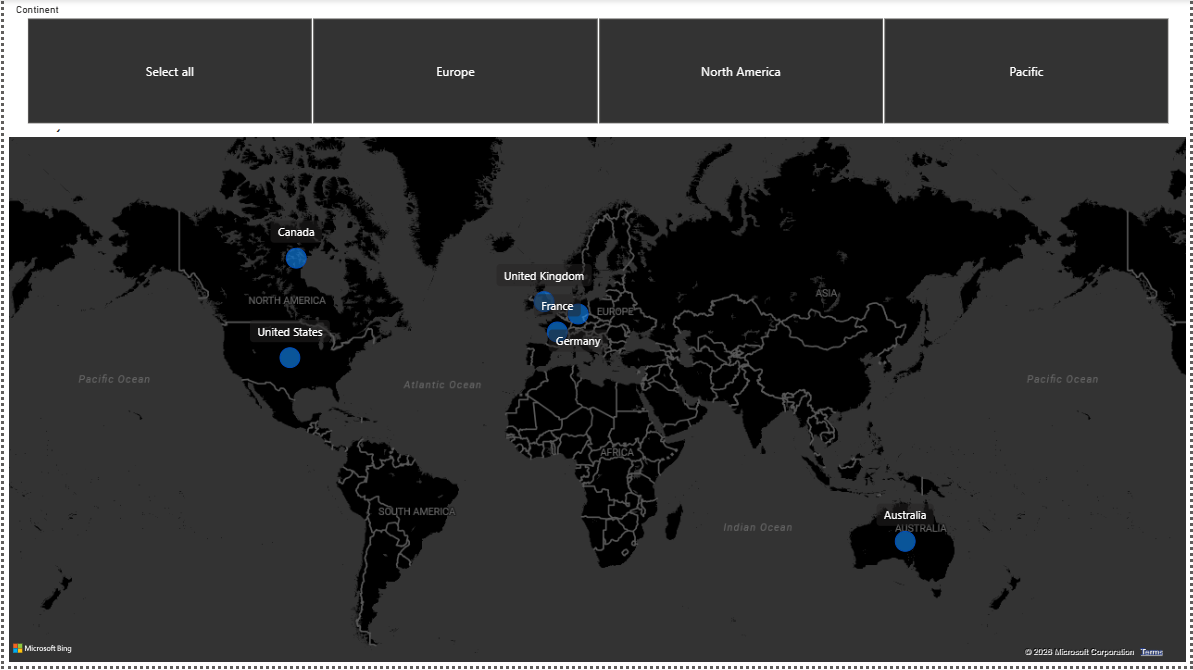

The page's visual inventory and layout, read from the dashboard file:
{"tool":"powerbi","page":{"name":"Maps","canvas":[1280,720],"ordinal":5},"visuals":[{"type":"map","fields":{"Category":["Territory Lookup.Continent Hierarchy.Continent","Territory Lookup.Continent Hierarchy.Region","Territory Lookup.Continent Hierarchy.Country"]},"box":[0,124.7,1280.8,595.9],"z":0},{"type":"slicer","fields":{"Values":["Territory Lookup.Continent"]},"box":[0,0,1280.8,140.9],"z":1000}]}

Visuals, with their boxes in screenshot pixels (x1, y1, x2, y2), scaled from the page's 1280x720 canvas onto the 1193x670 screenshot:
map - Territory Lookup.Continent Hierarchy.Continent x Territory Lookup.Continent Hierarchy.Region: locate(0, 116, 1192, 669)
slicer - Territory Lookup.Continent: locate(0, 0, 1192, 131)
